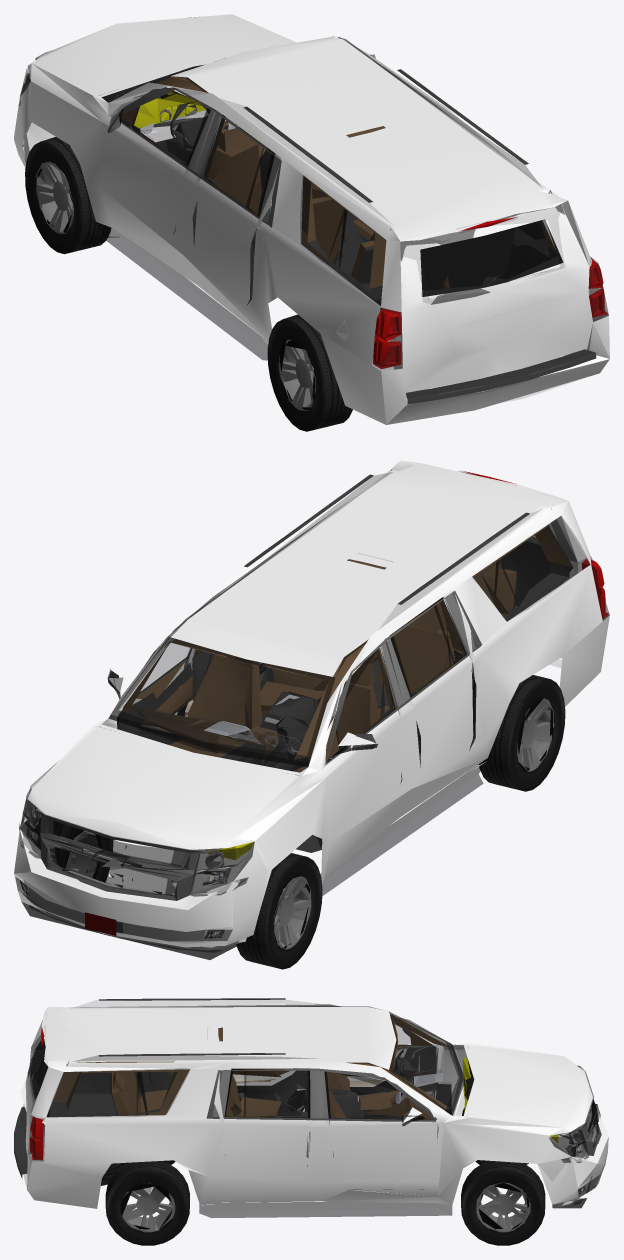
File: suburban_lod1.glb
3 views of the same model, one above another, from view 1: azimuth 30°, elevation 25°; view 2: azimuth 150°, elevation 25°; view 3: azimuth 270°, elevation 25° (orthographic). The views are drawn at different scales.
Visible parts, largest first — view 1: Object_24, Object_19, Object_17, Object_10, Object_29, Object_6, Object_12, Object_21, Object_26, Object_27; view 2: Object_24, Object_19, Object_17, Object_12, Object_6, Object_29, Object_10, Object_26, Object_21, Object_13; view 3: Object_24, Object_19, Object_17, Object_29, Object_12, Object_10, Object_6, Object_21, Object_26, Object_13, Object_11.
Part boxes in pixels (left/top/right/bottom): Object_24: left=14, top=14, right=609, bottom=424; Object_19: left=103, top=63, right=567, bottom=400; Object_17: left=20, top=37, right=564, bottom=360; Object_10: left=121, top=102, right=563, bottom=310; Object_29: left=25, top=137, right=352, bottom=431; Object_6: left=18, top=16, right=596, bottom=410; Object_12: left=119, top=58, right=556, bottom=289; Object_21: left=22, top=141, right=607, bottom=368; Object_26: left=20, top=68, right=608, bottom=370; Object_27: left=134, top=91, right=205, bottom=127; Object_24: left=14, top=460, right=609, bottom=950; Object_19: left=88, top=471, right=608, bottom=883; Object_17: left=15, top=469, right=577, bottom=959; Object_12: left=123, top=525, right=573, bottom=772; Object_6: left=22, top=474, right=554, bottom=949; Object_29: left=34, top=675, right=565, bottom=969; Object_10: left=117, top=537, right=572, bottom=852; Object_26: left=20, top=558, right=609, bottom=936; Object_21: left=20, top=471, right=608, bottom=938; Object_13: left=204, top=694, right=331, bottom=758; Object_24: left=20, top=1004, right=608, bottom=1208; Object_19: left=31, top=1000, right=501, bottom=1195; Object_17: left=27, top=1006, right=607, bottom=1218; Object_29: left=44, top=1107, right=545, bottom=1245; Object_12: left=52, top=1015, right=450, bottom=1119; Object_10: left=30, top=1040, right=451, bottom=1189; Object_6: left=14, top=998, right=601, bottom=1232; Object_21: left=30, top=1027, right=585, bottom=1194; Object_26: left=28, top=1115, right=587, bottom=1189; Object_13: left=331, top=1045, right=442, bottom=1103; Object_11: left=233, top=1075, right=386, bottom=1086.
Size of the model in its own units: 2.18 by 1.86 by 5.69.
16 materials, 9 textured.
